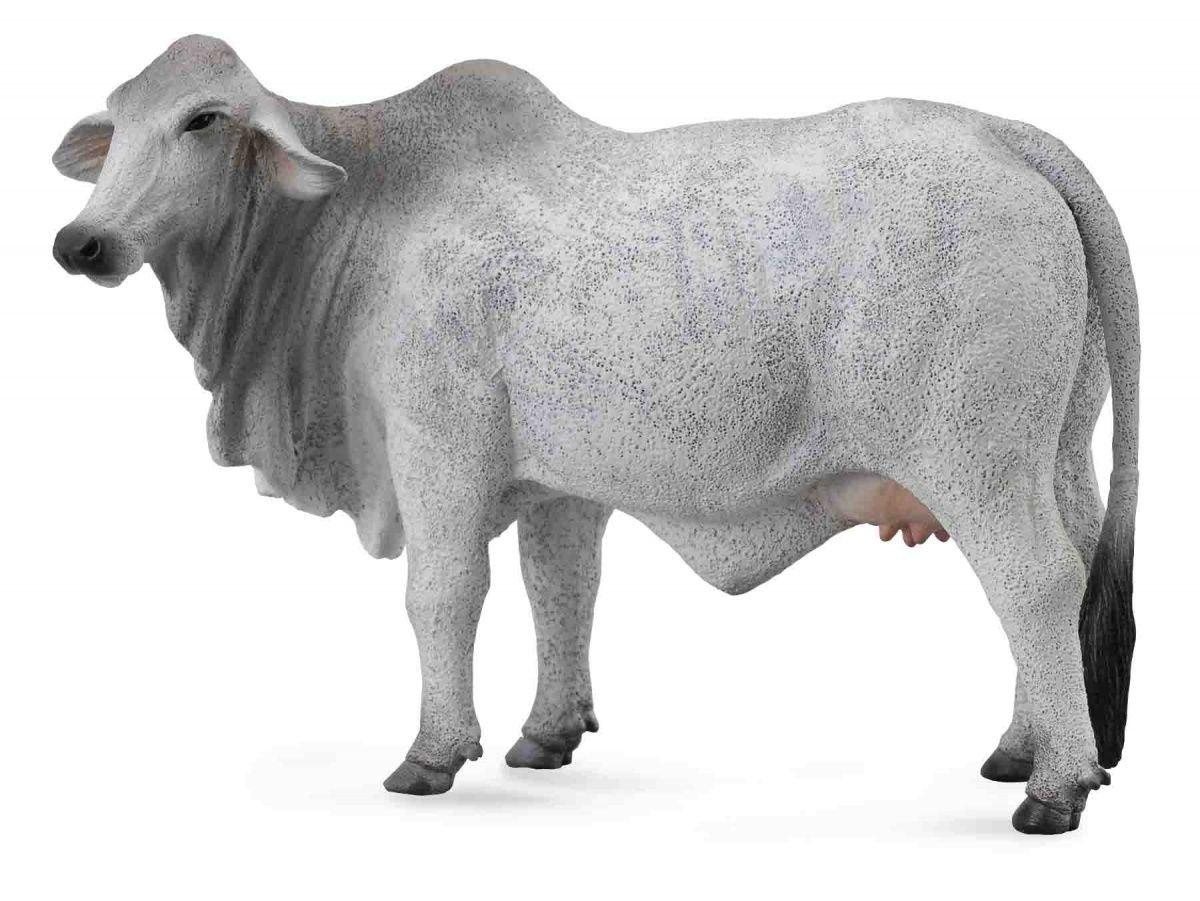cow: (53, 35, 1139, 834)
